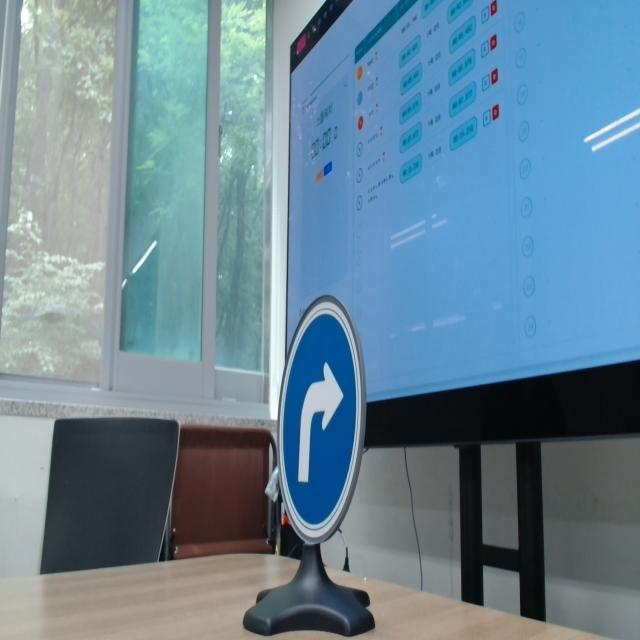right_dierection: (275, 293, 368, 542)
